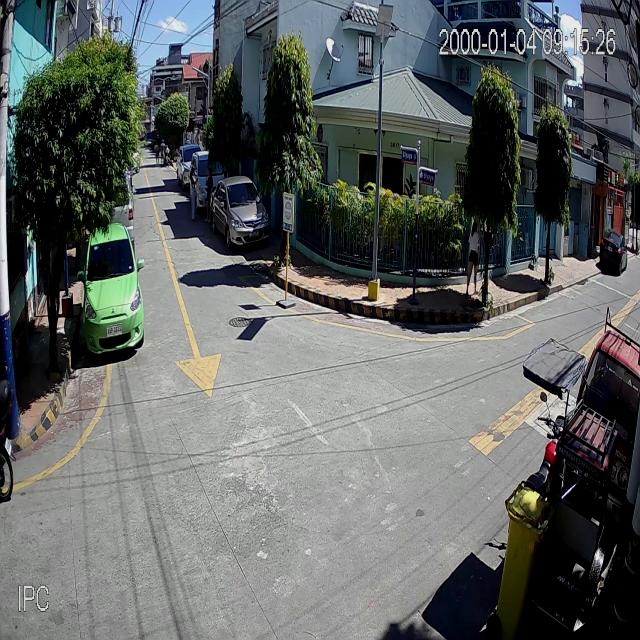standing: (188, 166, 201, 221)
walking: (464, 220, 482, 298), (204, 166, 215, 223), (159, 139, 166, 165), (154, 141, 160, 166)
